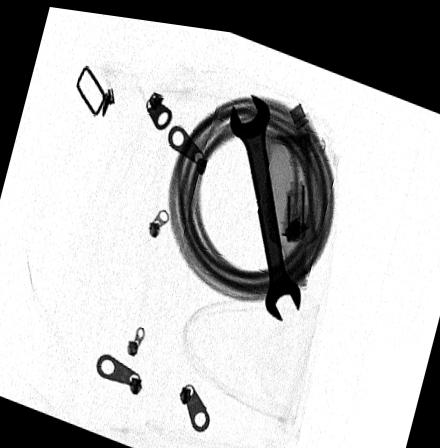Wrench: (229, 86, 302, 313)
